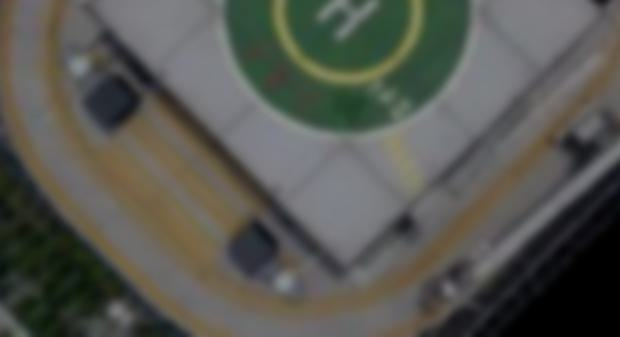Apron: (269, 1, 428, 89)
